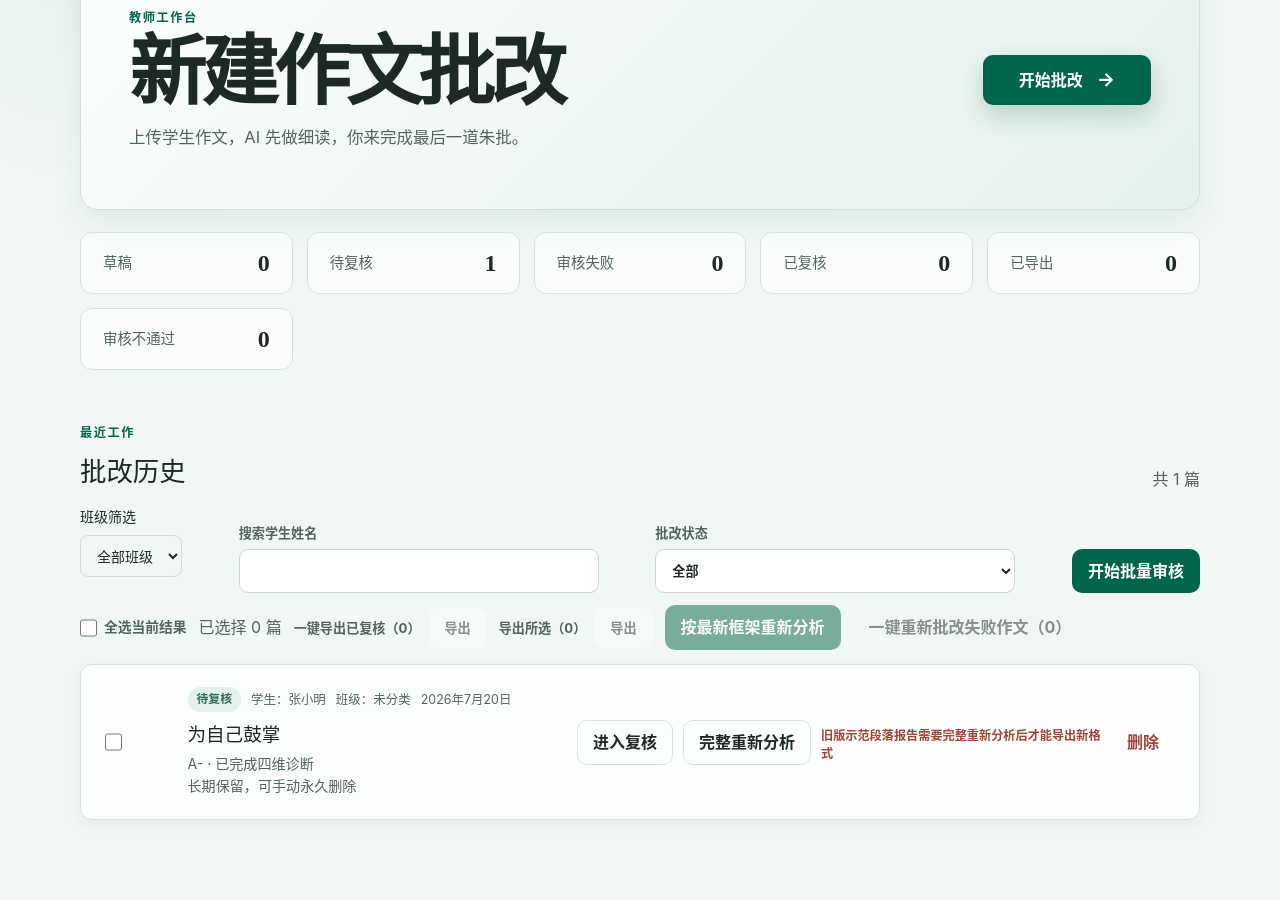
Test case: 历史首页 › 加载历史、统计状态并确认删除
The image size is (1280, 900).
(page scrolled)
Expected: the heading "为自己鼓掌" is shown, x1=188 y1=723 x2=280 y2=745
Expected: the text "学生：张小明" is shown, x1=251 y1=690 x2=326 y2=709
Click the button with aria-label "删除《为自己鼓掌》".
click(1143, 742)  # box x1=1111 y1=720 x2=1175 y2=764
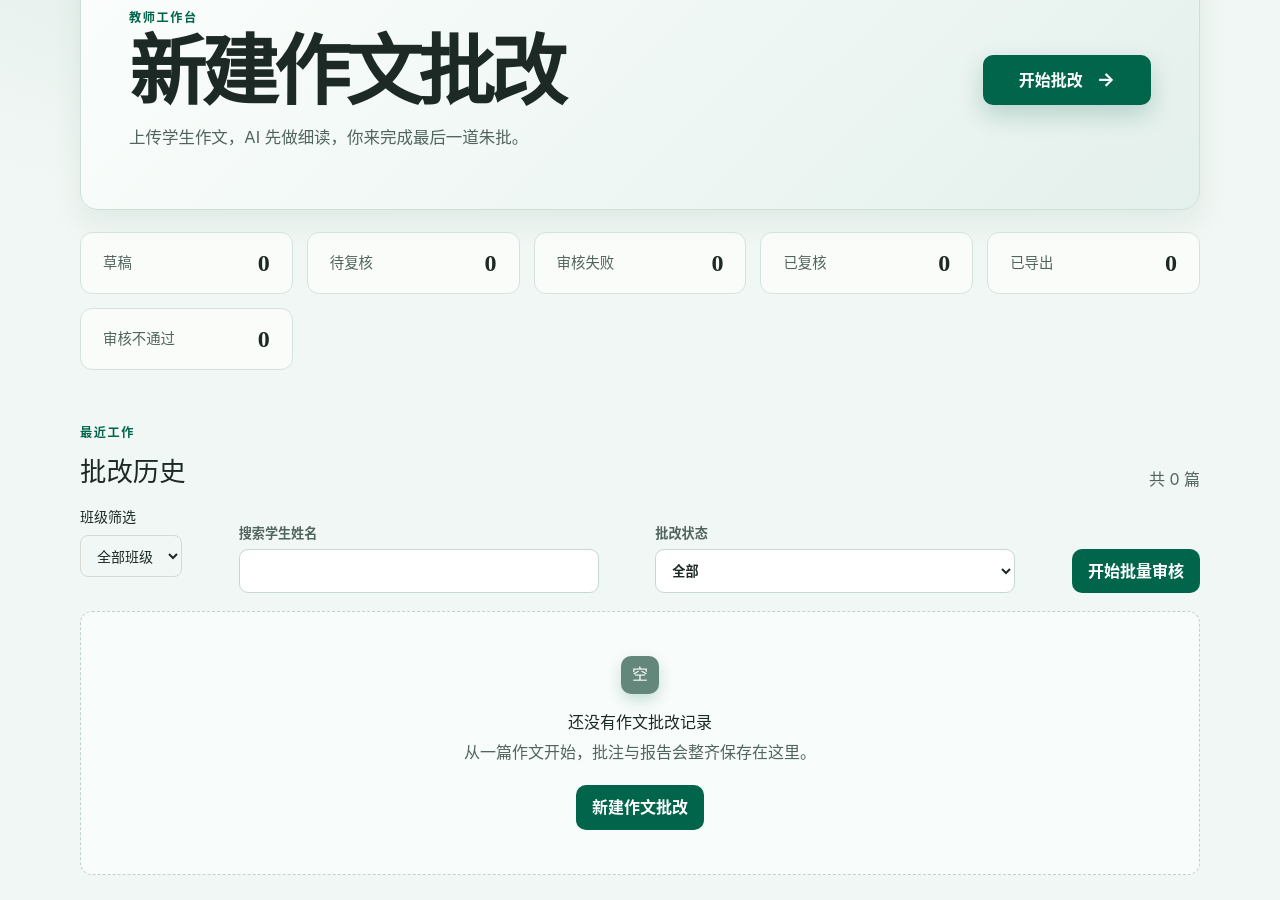
Expected: the text "A- · 已完成四维诊断" is gone
